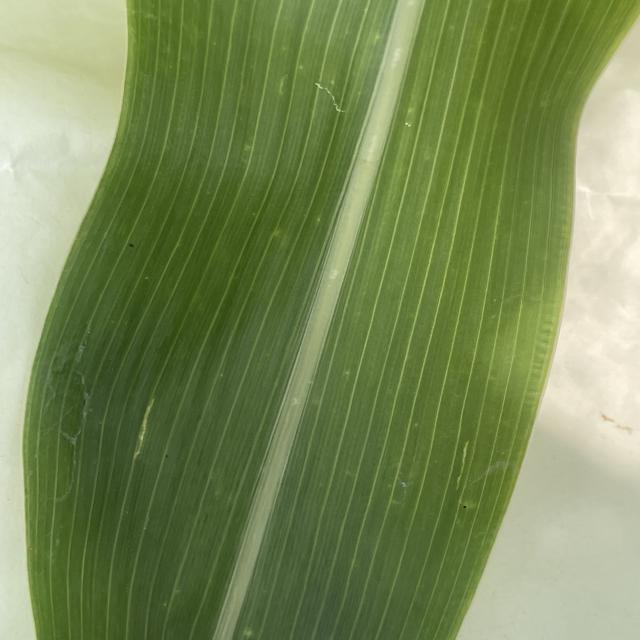millet_healthy: (24, 0, 638, 640)
